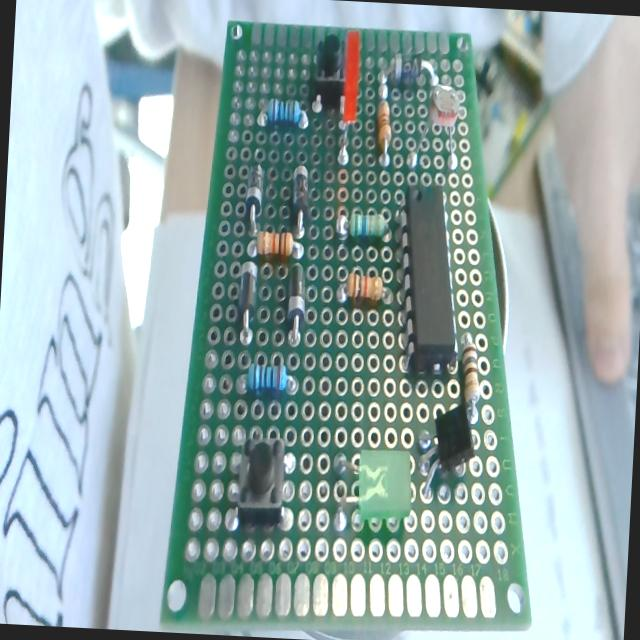IC: (397, 182, 464, 374)
cds: (426, 81, 466, 172)
diode: (456, 332, 489, 413), (384, 52, 436, 90), (237, 260, 259, 342), (286, 263, 307, 337), (290, 166, 310, 236), (244, 164, 264, 226)
led: (334, 448, 416, 528), (337, 31, 364, 160)
resistor: (335, 208, 385, 242), (258, 98, 310, 130), (338, 271, 384, 307), (247, 360, 290, 396), (255, 228, 295, 260), (374, 100, 392, 155)
switch: (234, 434, 287, 530), (312, 32, 348, 110)
transistor: (418, 363, 483, 499)
